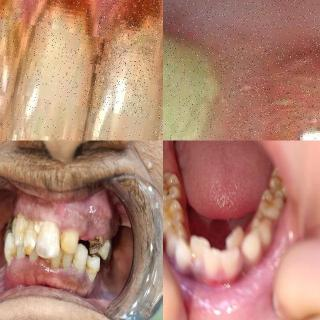calculus: (68, 253, 84, 273), (56, 258, 66, 272), (42, 258, 52, 270)
cavities: (36, 0, 104, 70), (105, 0, 162, 80), (0, 0, 43, 68), (88, 238, 110, 258), (163, 182, 177, 198)
maligned: (219, 215, 248, 252), (189, 232, 213, 262), (2, 228, 18, 262)
plaque: (15, 211, 29, 223)
stains: (58, 230, 74, 254)
